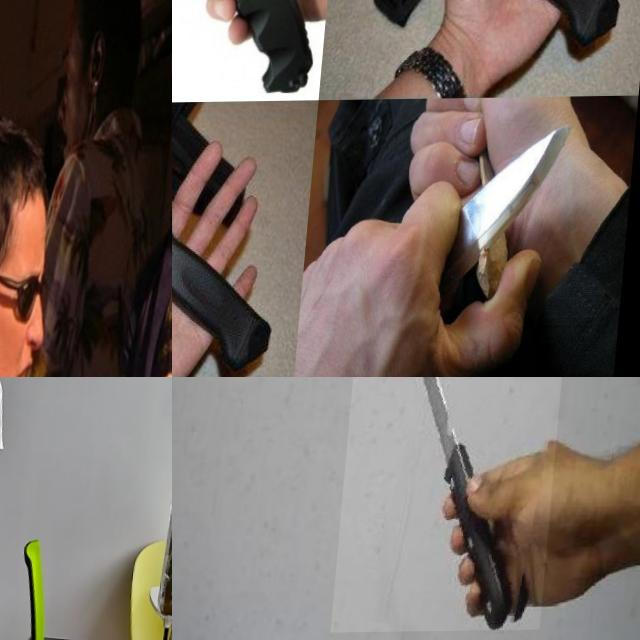-: (340, 377, 574, 633), (420, 118, 583, 322), (362, 0, 530, 85), (172, 116, 252, 287), (172, 0, 273, 106)
gun-knife-thesis - v11 Yolov5 augmented: (0, 377, 14, 407)
